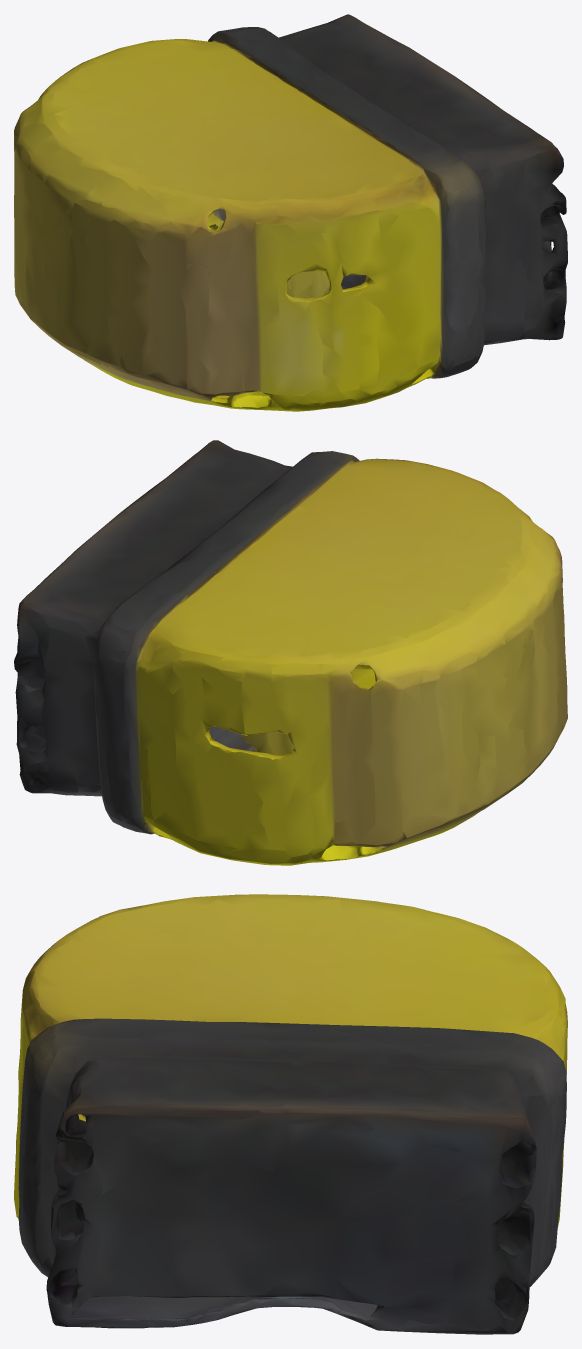
Rendered from 0017_mask_018_tape_measure.glb.
The picture shows the model from 3 angles, top to bottom: view 1: azimuth 30°, elevation 25°; view 2: azimuth 150°, elevation 25°; view 3: azimuth 270°, elevation 25°; orthographic projection. The views are drawn at different scales.
Visible parts, largest first — view 1: mask_018_object; view 2: mask_018_object; view 3: mask_018_object.
Part boxes in pixels (box(x1,y1,x2,y2)): mask_018_object: box(14, 14, 567, 411); mask_018_object: box(14, 440, 567, 865); mask_018_object: box(14, 894, 567, 1334).
Size of the model in its own units: 0.1267 by 0.0685 by 0.13.
